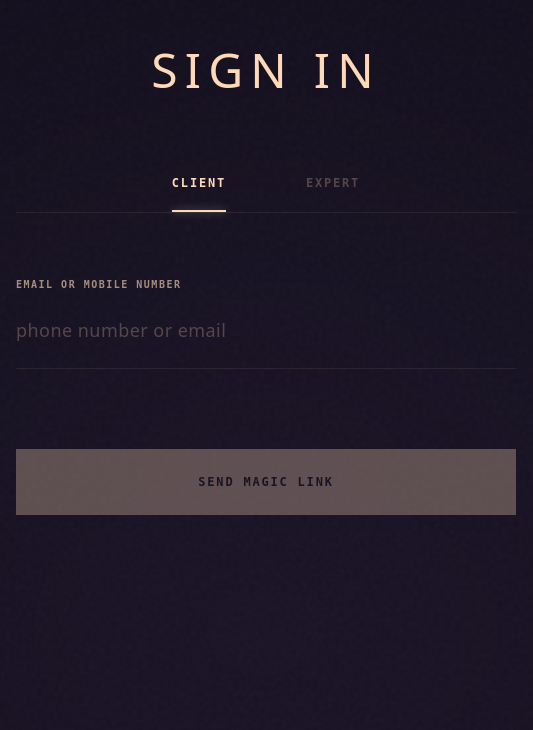
Test: LoginPage client input mode switching and validation › switches to phone mode with +91 prefix when >5 digits are typed
// Type 5 digits - should remain email mode
Type "12345" into the field with placeholder "phone number or email" at (266, 330), box [16,316,516,344]
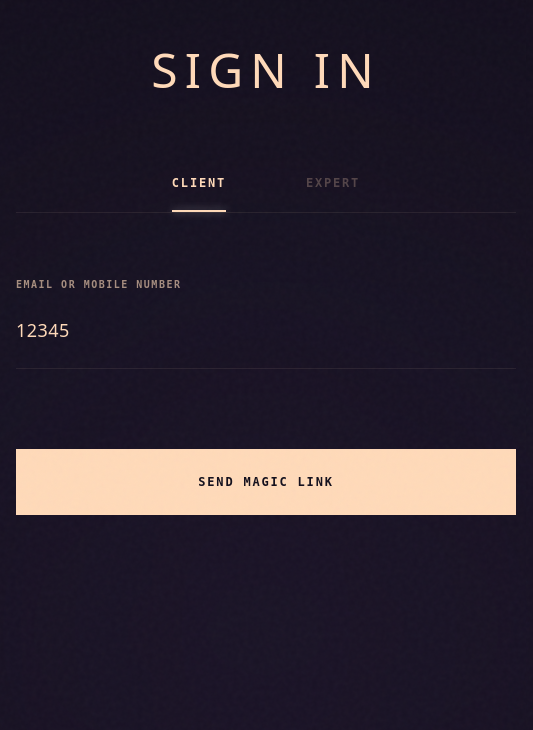
Expected: the text "+91" is not shown
// Type 6 digits - should switch to phone mode and show prefix
Replace the text in the field with placeholder "phone number or email" with "123456" at (266, 330), box [16,316,516,344]
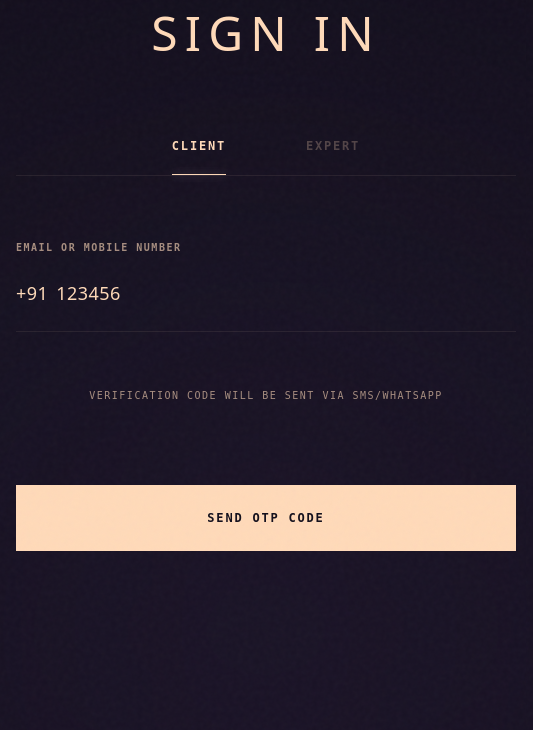
Expected: the text "+91" is shown, [16,279,48,307]
